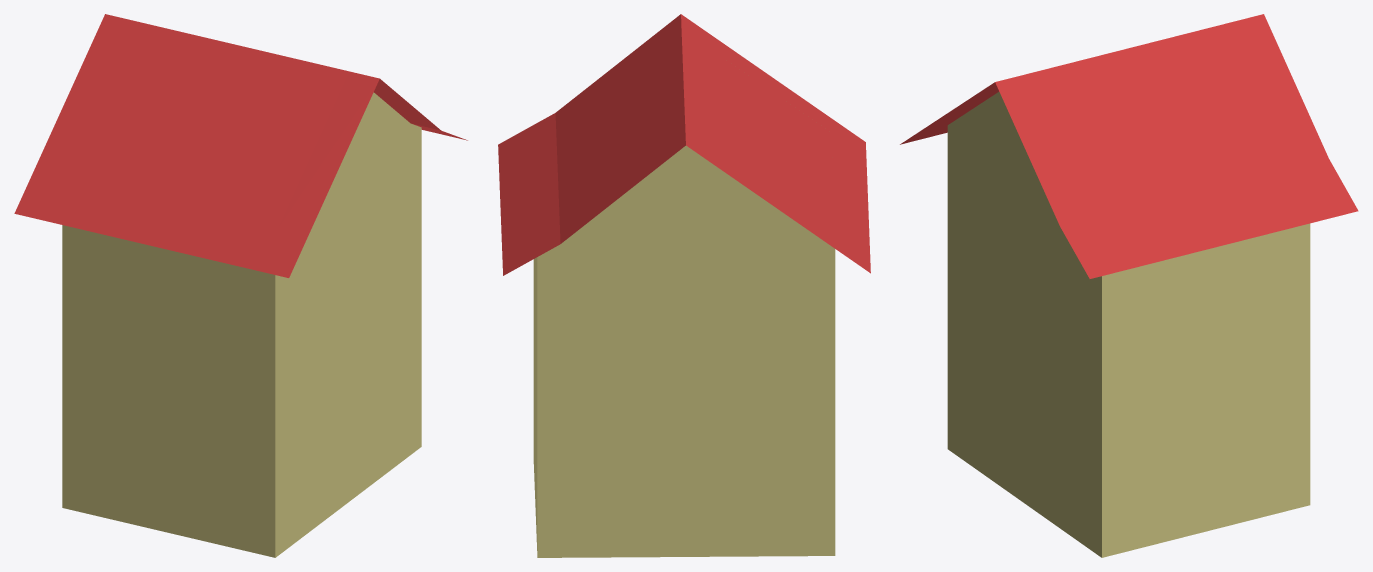
The picture shows the model from 3 angles, left to right: view 1: azimuth 30°, elevation 25°; view 2: azimuth 150°, elevation 25°; view 3: azimuth 270°, elevation 25°; orthographic projection.
Bounding box in the file's own units: 13.63 × 13.07 × 13.48.
